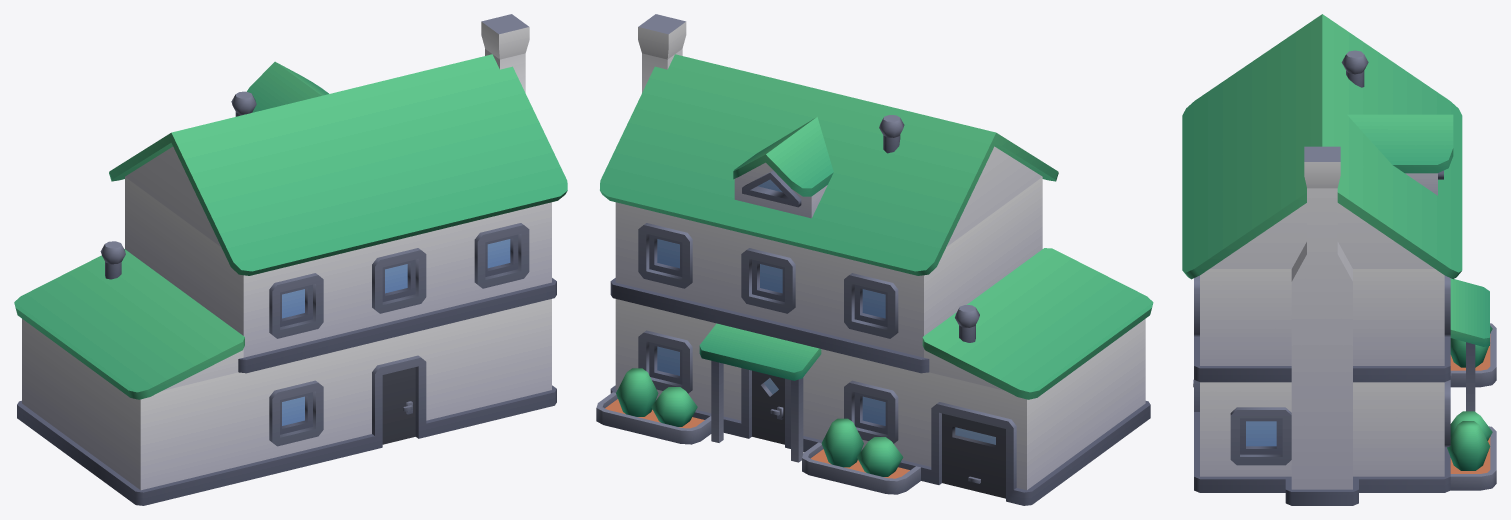
Rendered from house_suburb_d.glb.
The picture shows the model from 3 angles, left to right: view 1: azimuth 30°, elevation 25°; view 2: azimuth 150°, elevation 25°; view 3: azimuth 270°, elevation 25°; orthographic projection. The views are drawn at different scales.
Visible parts, largest first — view 1: building-type-d; view 2: building-type-d; view 3: building-type-d.
Part boxes in pixels (bbox=[...]): building-type-d: bbox=[14, 14, 567, 505]; building-type-d: bbox=[596, 14, 1153, 505]; building-type-d: bbox=[1182, 14, 1496, 505].
Bounding box in the file's own units: 1.76 × 1.24 × 1.03.
1 material, 1 textured.
